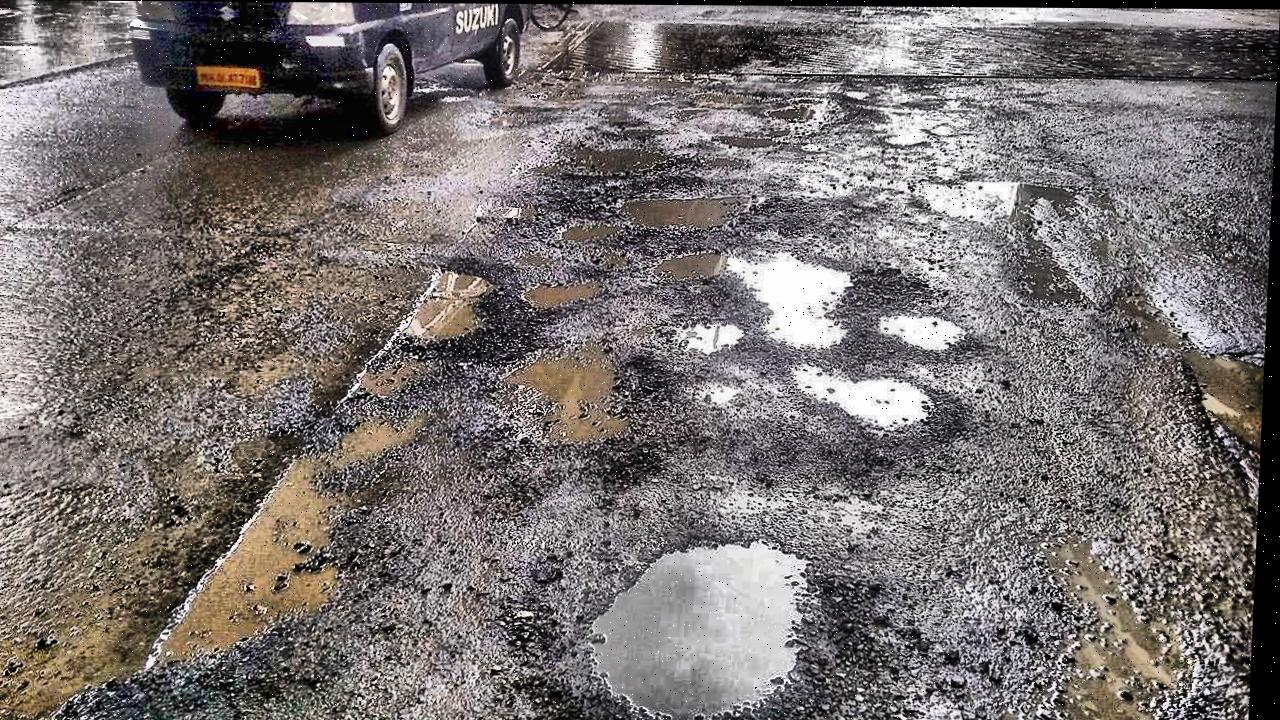pothole: (592, 536, 832, 720), (487, 348, 668, 469), (785, 354, 946, 438), (738, 250, 858, 357), (538, 196, 618, 320), (1187, 340, 1264, 454), (627, 173, 762, 233), (905, 172, 1030, 230), (879, 302, 971, 354), (669, 312, 751, 356), (649, 248, 730, 281)
